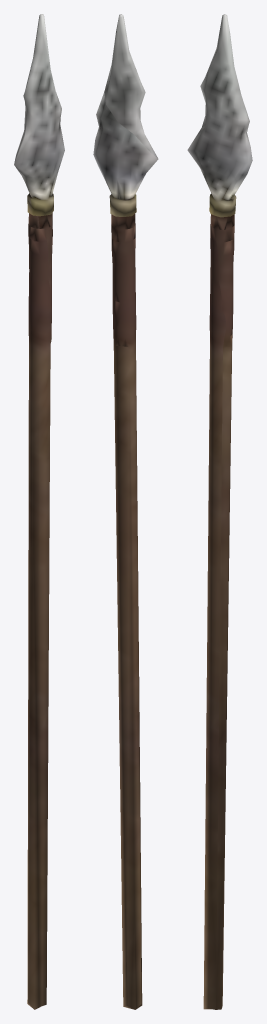
The model's file is Spear_SR.glb.
3 views of the same model, side by side, from view 1: azimuth 30°, elevation 25°; view 2: azimuth 150°, elevation 25°; view 3: azimuth 330°, elevation 25° (orthographic).
Parts seen in each view (by area): view 1: Cube.001; view 2: Cube.001; view 3: Cube.001.
Part boxes in pixels (<box>): Cube.001: <box>14,14,64,1009</box>; Cube.001: <box>93,14,158,1009</box>; Cube.001: <box>187,14,252,1009</box>.
Size of the model in its own units: 0.2425 by 4 by 0.1071.
1 material, 1 textured.
